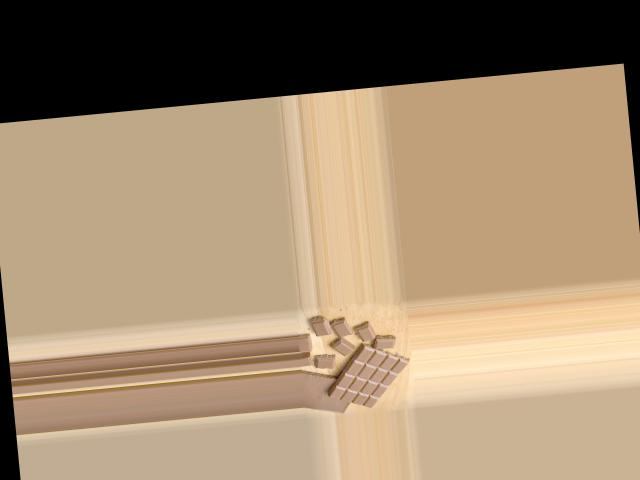chocolate: (323, 336, 411, 412)
